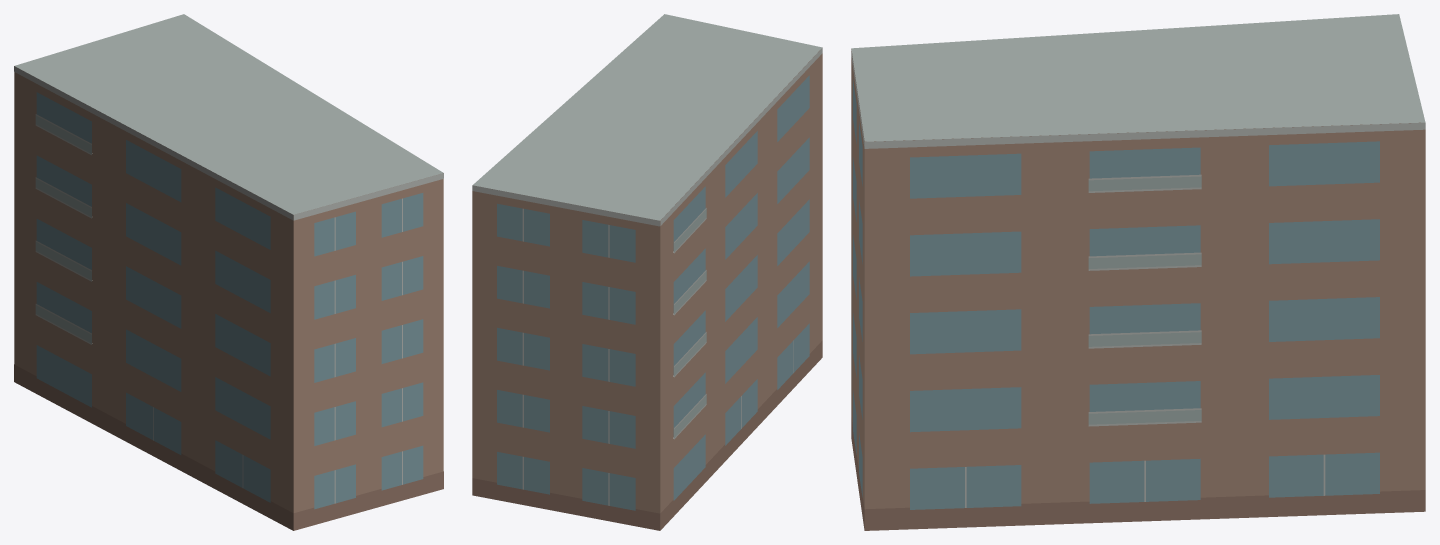
The model's file is survey-upis-32713466.glb.
3 views of the same model, side by side, from view 1: azimuth 30°, elevation 25°; view 2: azimuth 150°, elevation 25°; view 3: azimuth 270°, elevation 25° (orthographic). The views are drawn at different scales.
Parts seen in each view (by area): view 1: survey-upis-32713466.tmp; view 2: survey-upis-32713466.tmp; view 3: survey-upis-32713466.tmp.
Boxes of the visible parts, x1,y1,x2,y2 form: survey-upis-32713466.tmp: (14, 14, 443, 530); survey-upis-32713466.tmp: (472, 14, 822, 530); survey-upis-32713466.tmp: (851, 14, 1425, 530).
Size of the model in its own units: 9.3 by 13.2 by 17.66.
